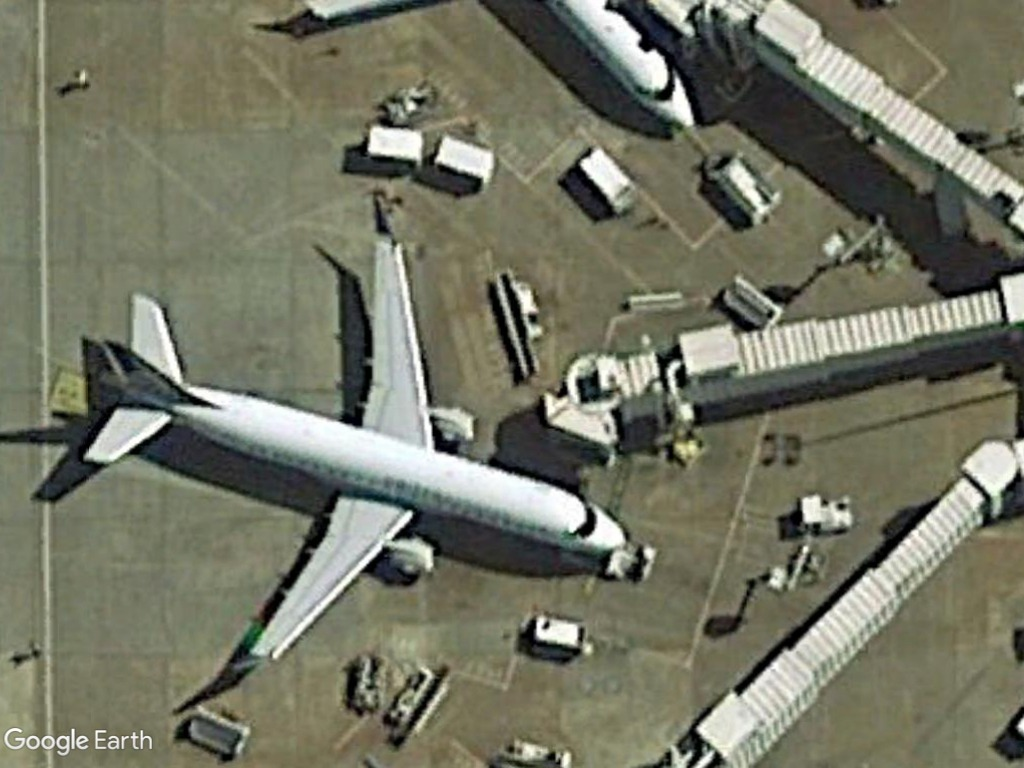airliner: (79, 194, 635, 706)
